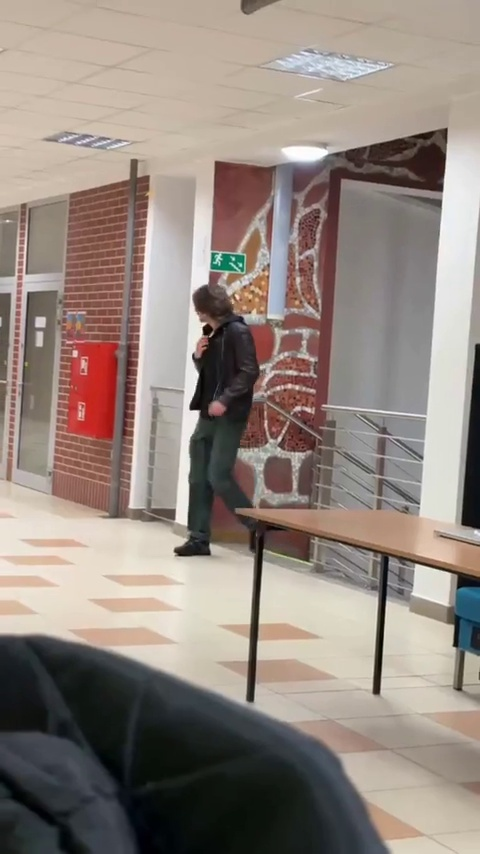no vest: (169, 285, 273, 548)
